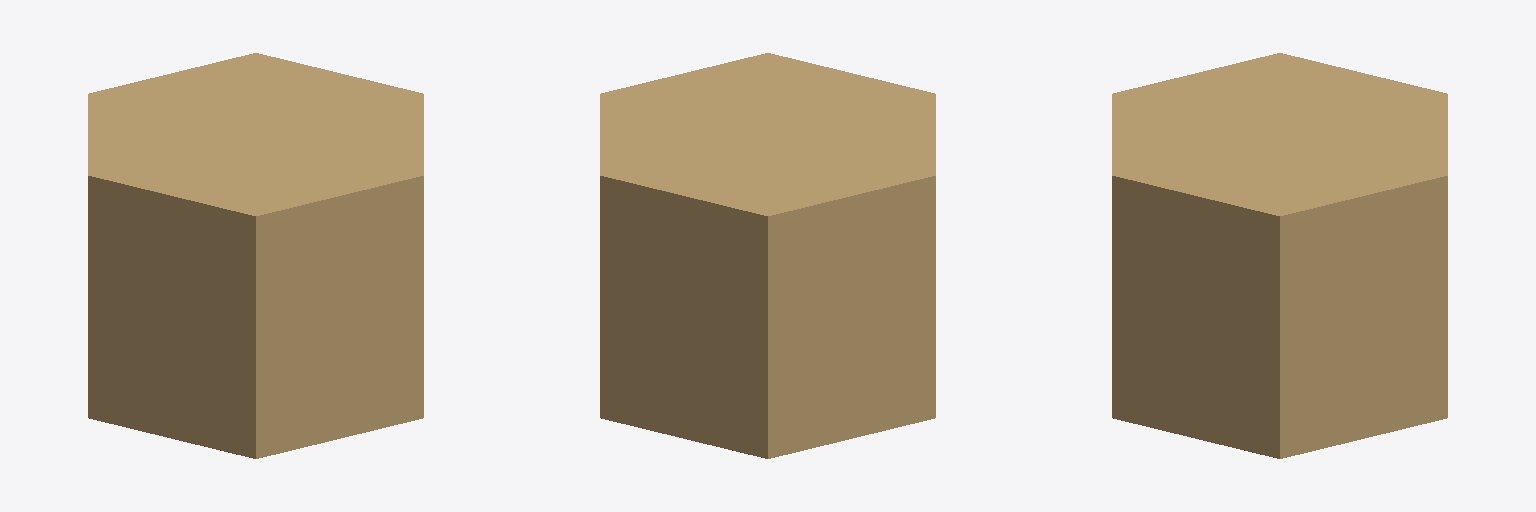
Rendered from mar2014test.obj.
The picture shows the model from 3 angles: view 1: azimuth 30°, elevation 25°; view 2: azimuth 150°, elevation 25°; view 3: azimuth 270°, elevation 25°; orthographic projection.
Parts seen in each view (by area): view 1: Mesh1 Model; view 2: Mesh1 Model; view 3: Mesh1 Model.
Boxes of the visible parts, x1=… form: Mesh1 Model: x1=88, y1=53, x2=423, y2=458; Mesh1 Model: x1=600, y1=53, x2=935, y2=458; Mesh1 Model: x1=1112, y1=53, x2=1447, y2=458.
Bounding box in the file's own units: 2.56 × 1.77 × 2.22.